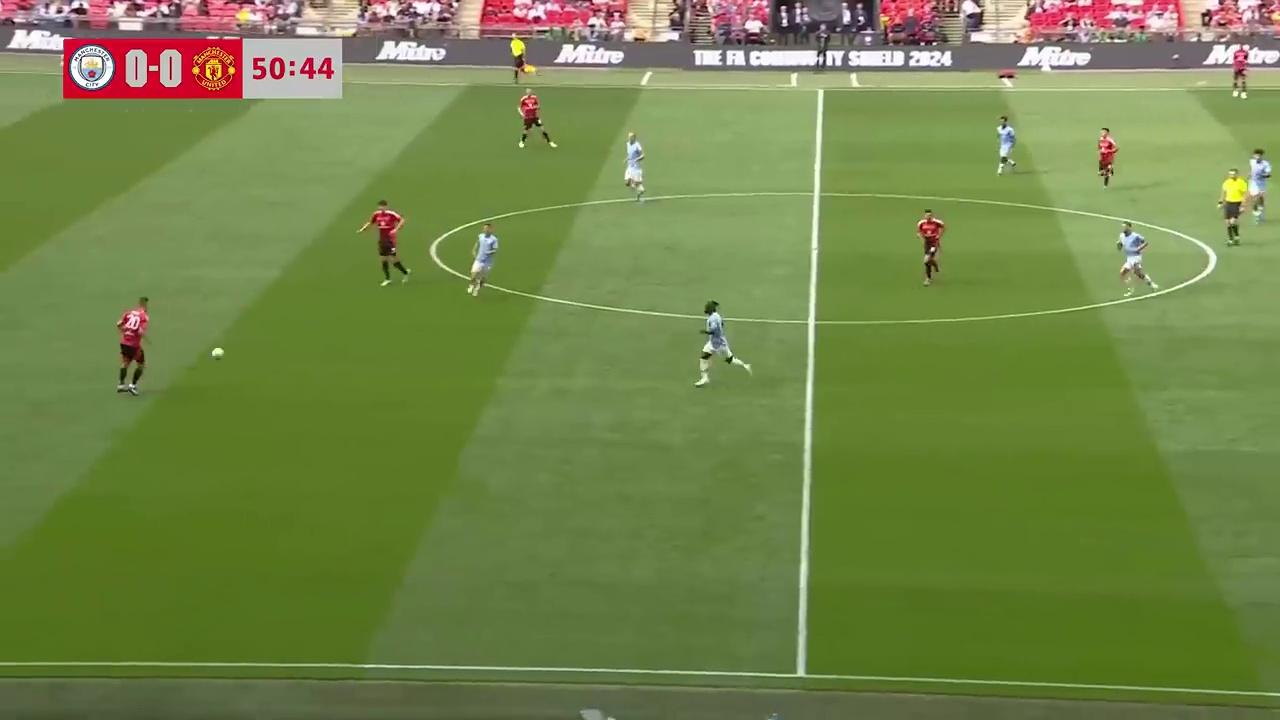ball: (209, 344, 226, 360)
player: (693, 300, 751, 386), (357, 198, 409, 285), (115, 298, 150, 395), (1116, 221, 1156, 290), (466, 221, 498, 298), (517, 89, 557, 149), (916, 209, 945, 285), (1245, 148, 1271, 224), (623, 131, 645, 203), (1096, 127, 1118, 189), (995, 115, 1016, 175), (1230, 44, 1249, 98)
referee: (1216, 168, 1246, 246), (509, 31, 529, 84)
